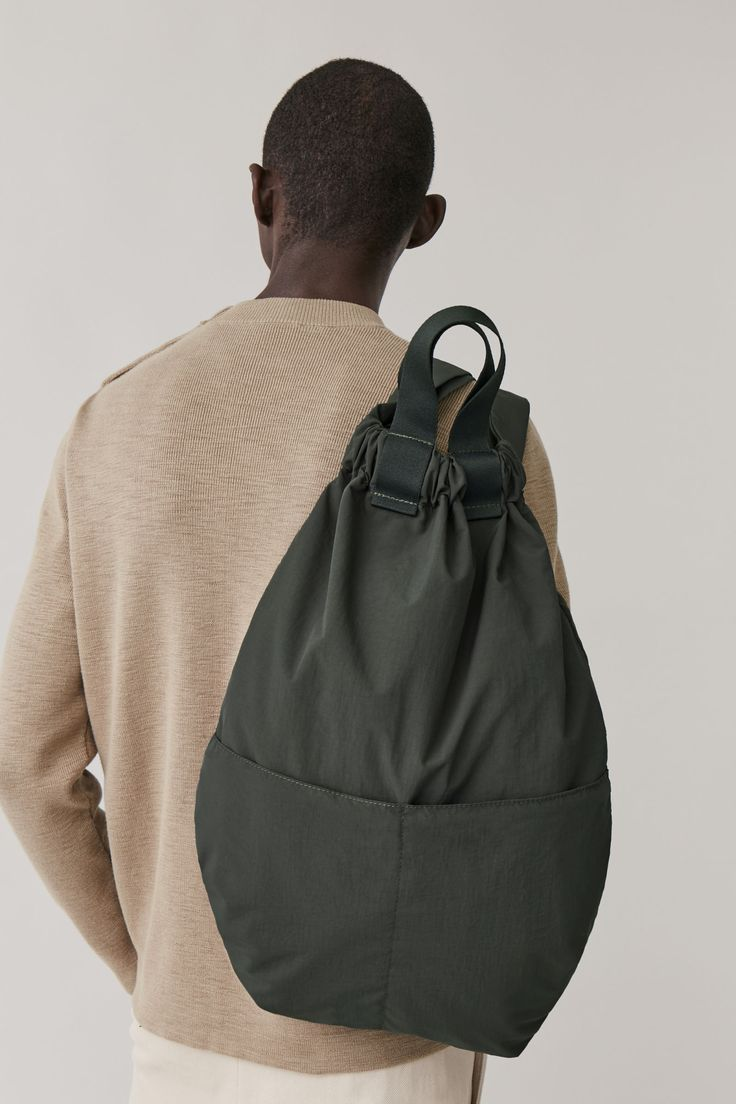nylon: (194, 304, 612, 1060)
